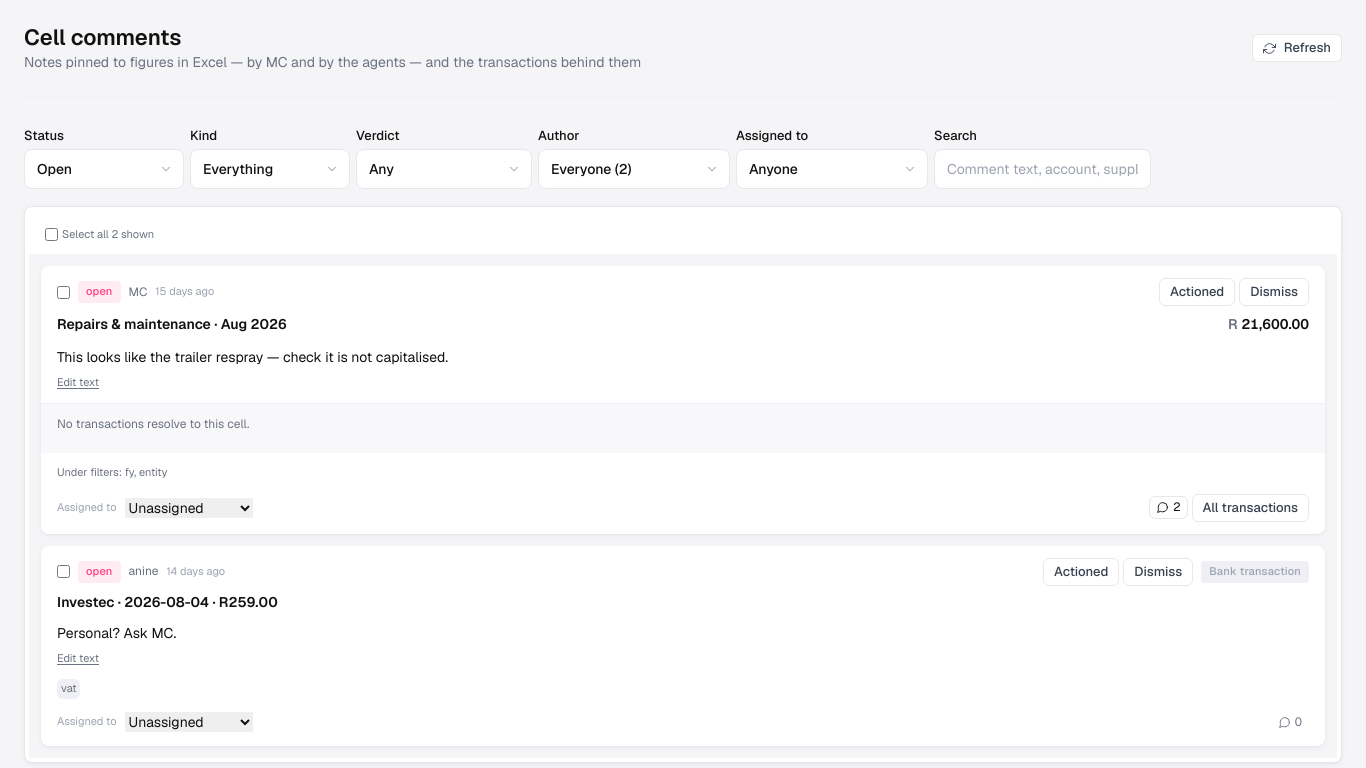
Test case: AuditComments — reply threads › a failed post keeps the draft and does not bump the badge
Click the button with test id "inline-comment-trigger" showing "2". click: {"x": 1168, "y": 508}
box: [1149,496,1188,519]
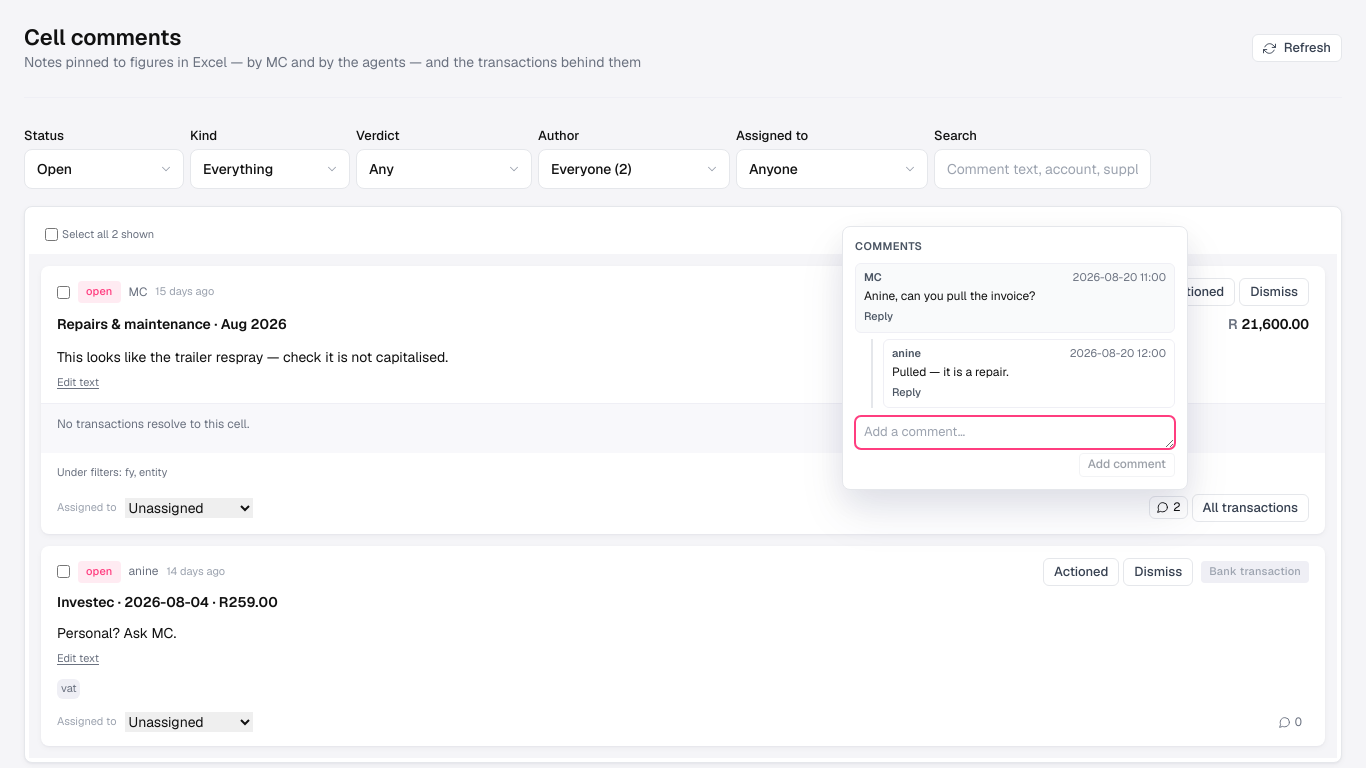
Type "Lost?" into the text box with test id "comment-input". click: {"x": 1015, "y": 433}
box: [855,416,1175,449]
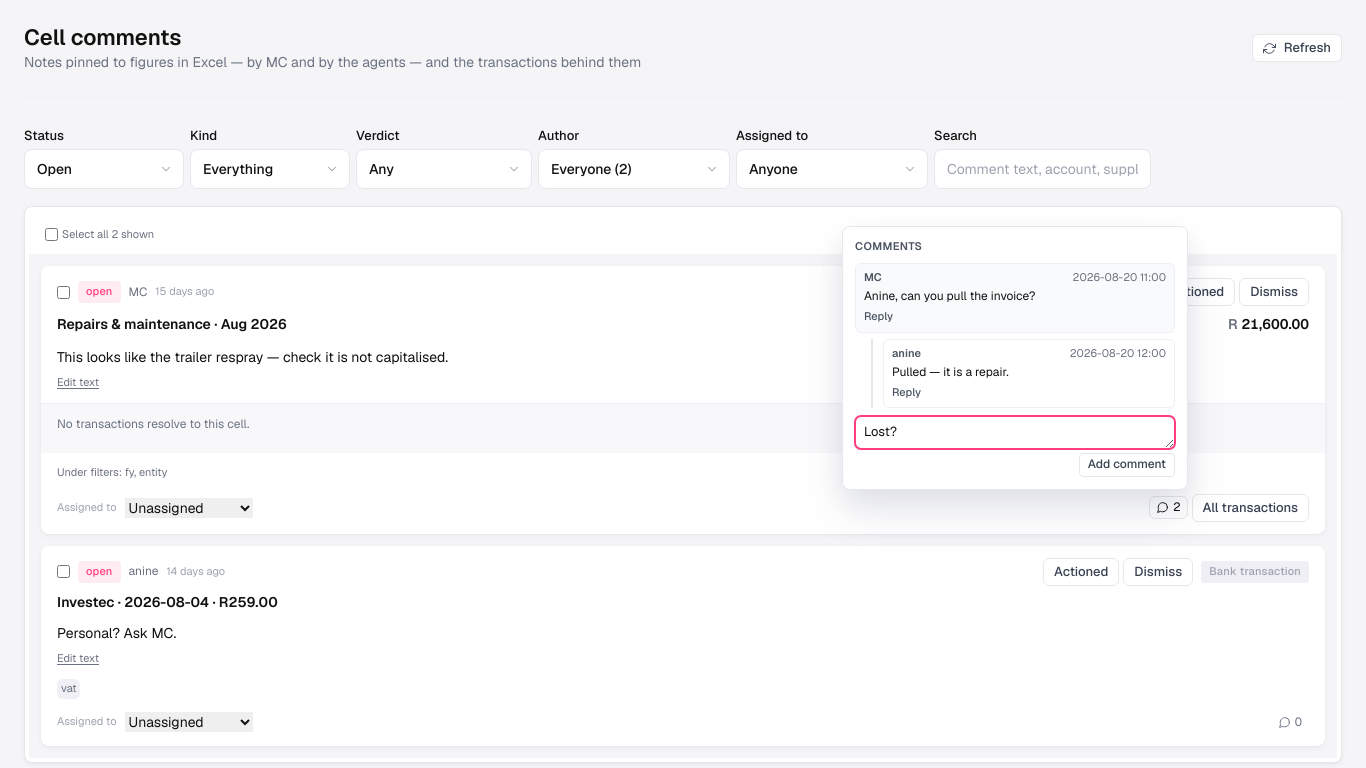
Click the button with test id "comment-submit". click: {"x": 1127, "y": 465}
box: [1079,453,1175,477]
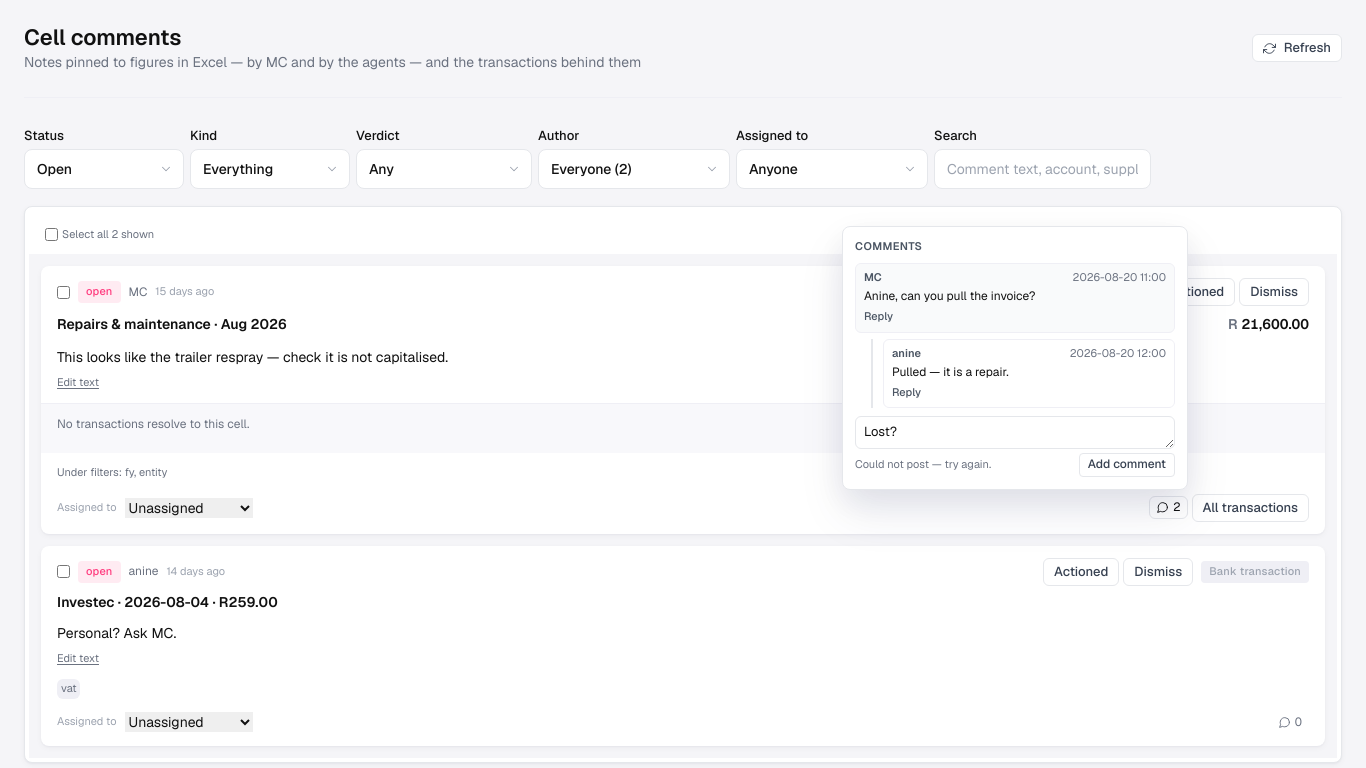
expect the message "Could not post — try again." is shown: met, box [855,457,991,471]
